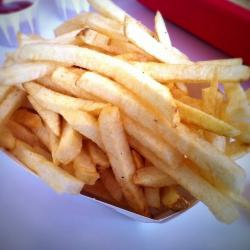fries: (35, 28, 210, 198)
